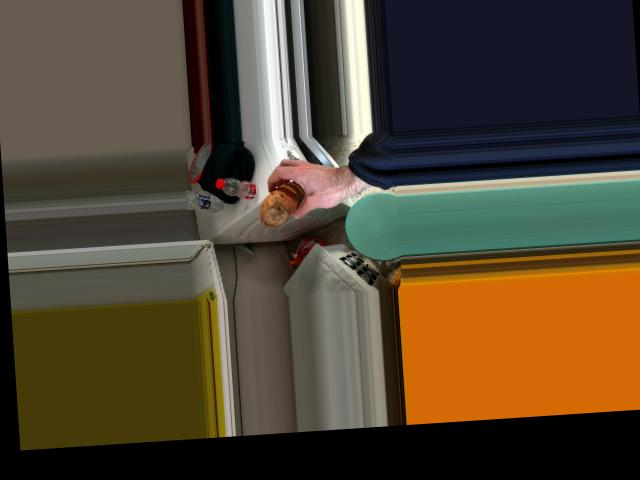sweet_potato: (259, 180, 309, 224)
